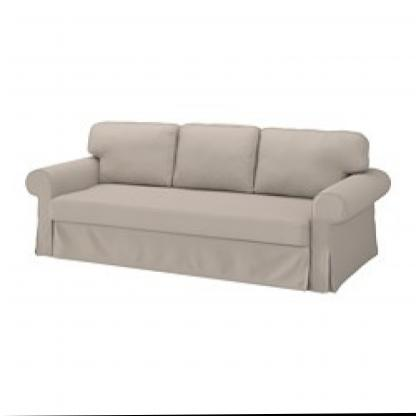Sofa: (20, 99, 391, 303)
